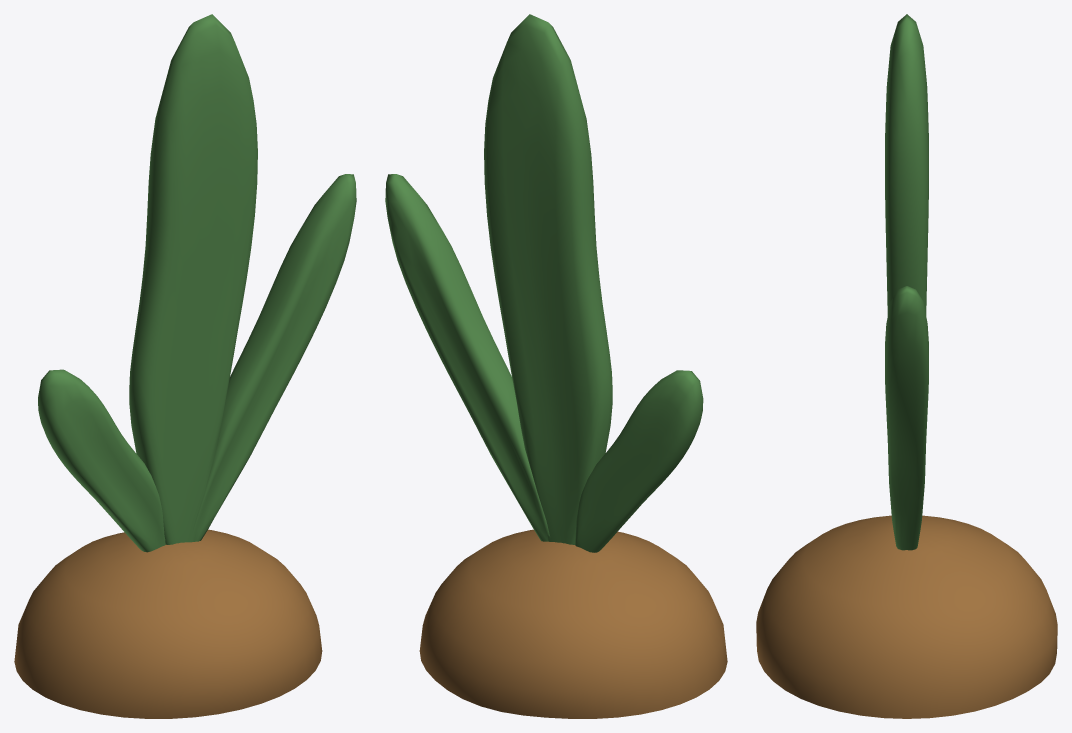
Rendered from Carrot_Medium.fbx.
The picture shows the model from 3 angles, left to right: view 1: azimuth 30°, elevation 25°; view 2: azimuth 150°, elevation 25°; view 3: azimuth 270°, elevation 25°; orthographic projection. The views are drawn at different scales.
Parts seen in each view (by area): view 1: Carrot_Mid; view 2: Carrot_Mid; view 3: Carrot_Mid.
Part boxes in pixels (box(x1,y1,x2,y2)): Carrot_Mid: box(14, 14, 356, 718); Carrot_Mid: box(385, 14, 727, 718); Carrot_Mid: box(756, 14, 1057, 718).
Bounding box in the file's own units: 1.22 × 2.3 × 0.9583.
